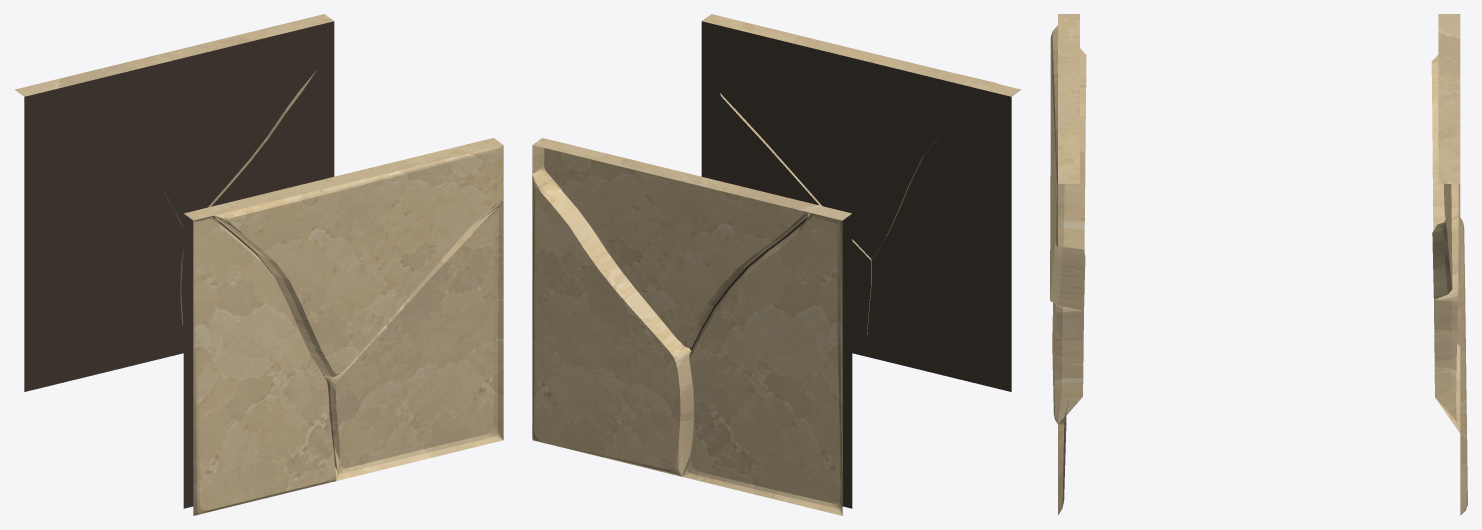
The model's file is ground_strip_05.glb.
The picture shows the model from 3 angles, left to right: view 1: azimuth 30°, elevation 25°; view 2: azimuth 150°, elevation 25°; view 3: azimuth 270°, elevation 25°; orthographic projection. The views are drawn at different scales.
Parts seen in each view (by area): view 1: GroundStrip05_Body; view 2: GroundStrip05_Body; view 3: GroundStrip05_Body.
Part boxes in pixels (bbox=[...]): GroundStrip05_Body: bbox=[15, 14, 503, 515]; GroundStrip05_Body: bbox=[532, 14, 1020, 515]; GroundStrip05_Body: bbox=[1050, 14, 1467, 515].
Size of the model in its own units: 1 by 0.91 by 1.04.
Materials: 8 (7 with a texture image).
